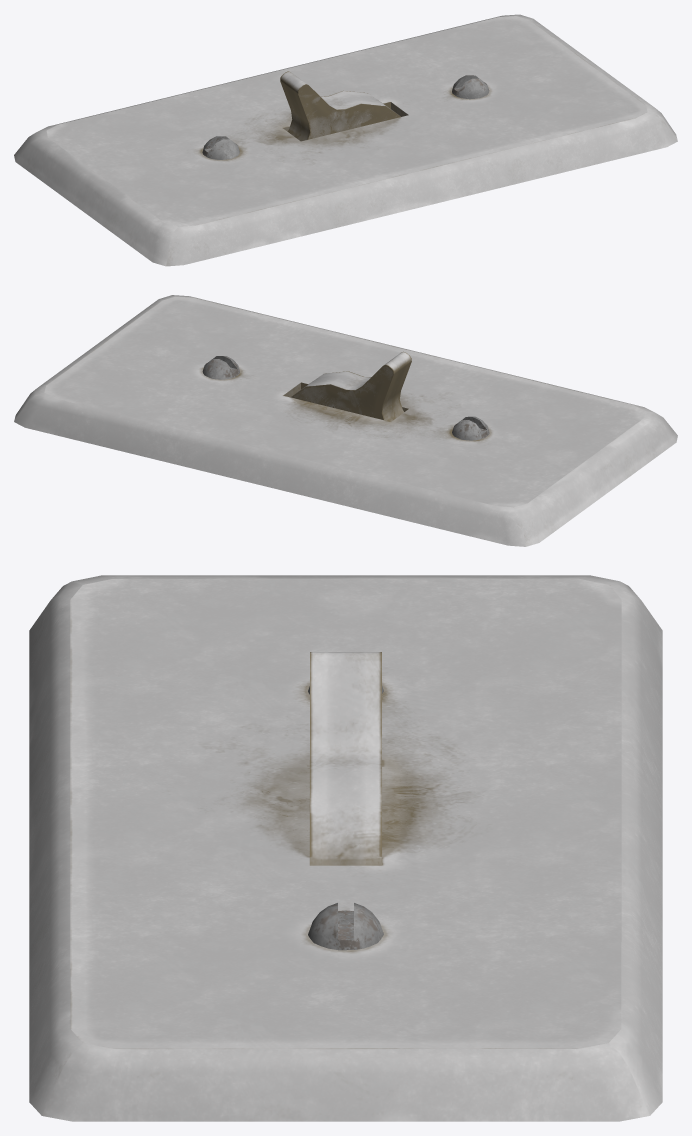
Rendered from old_light_switch.glb.
The picture shows the model from 3 angles, top to bottom: view 1: azimuth 30°, elevation 25°; view 2: azimuth 150°, elevation 25°; view 3: azimuth 270°, elevation 25°; orthographic projection. The views are drawn at different scales.
Parts seen in each view (by area): view 1: Object_2; view 2: Object_2; view 3: Object_2.
Part boxes in pixels (x1,y1,x2,y2): Object_2: (14,14,677,266); Object_2: (14,295,677,546); Object_2: (29,575,662,1121).
Size of the model in its own units: 2.1 by 0.5608 by 1.1.
1 material, 1 textured.
